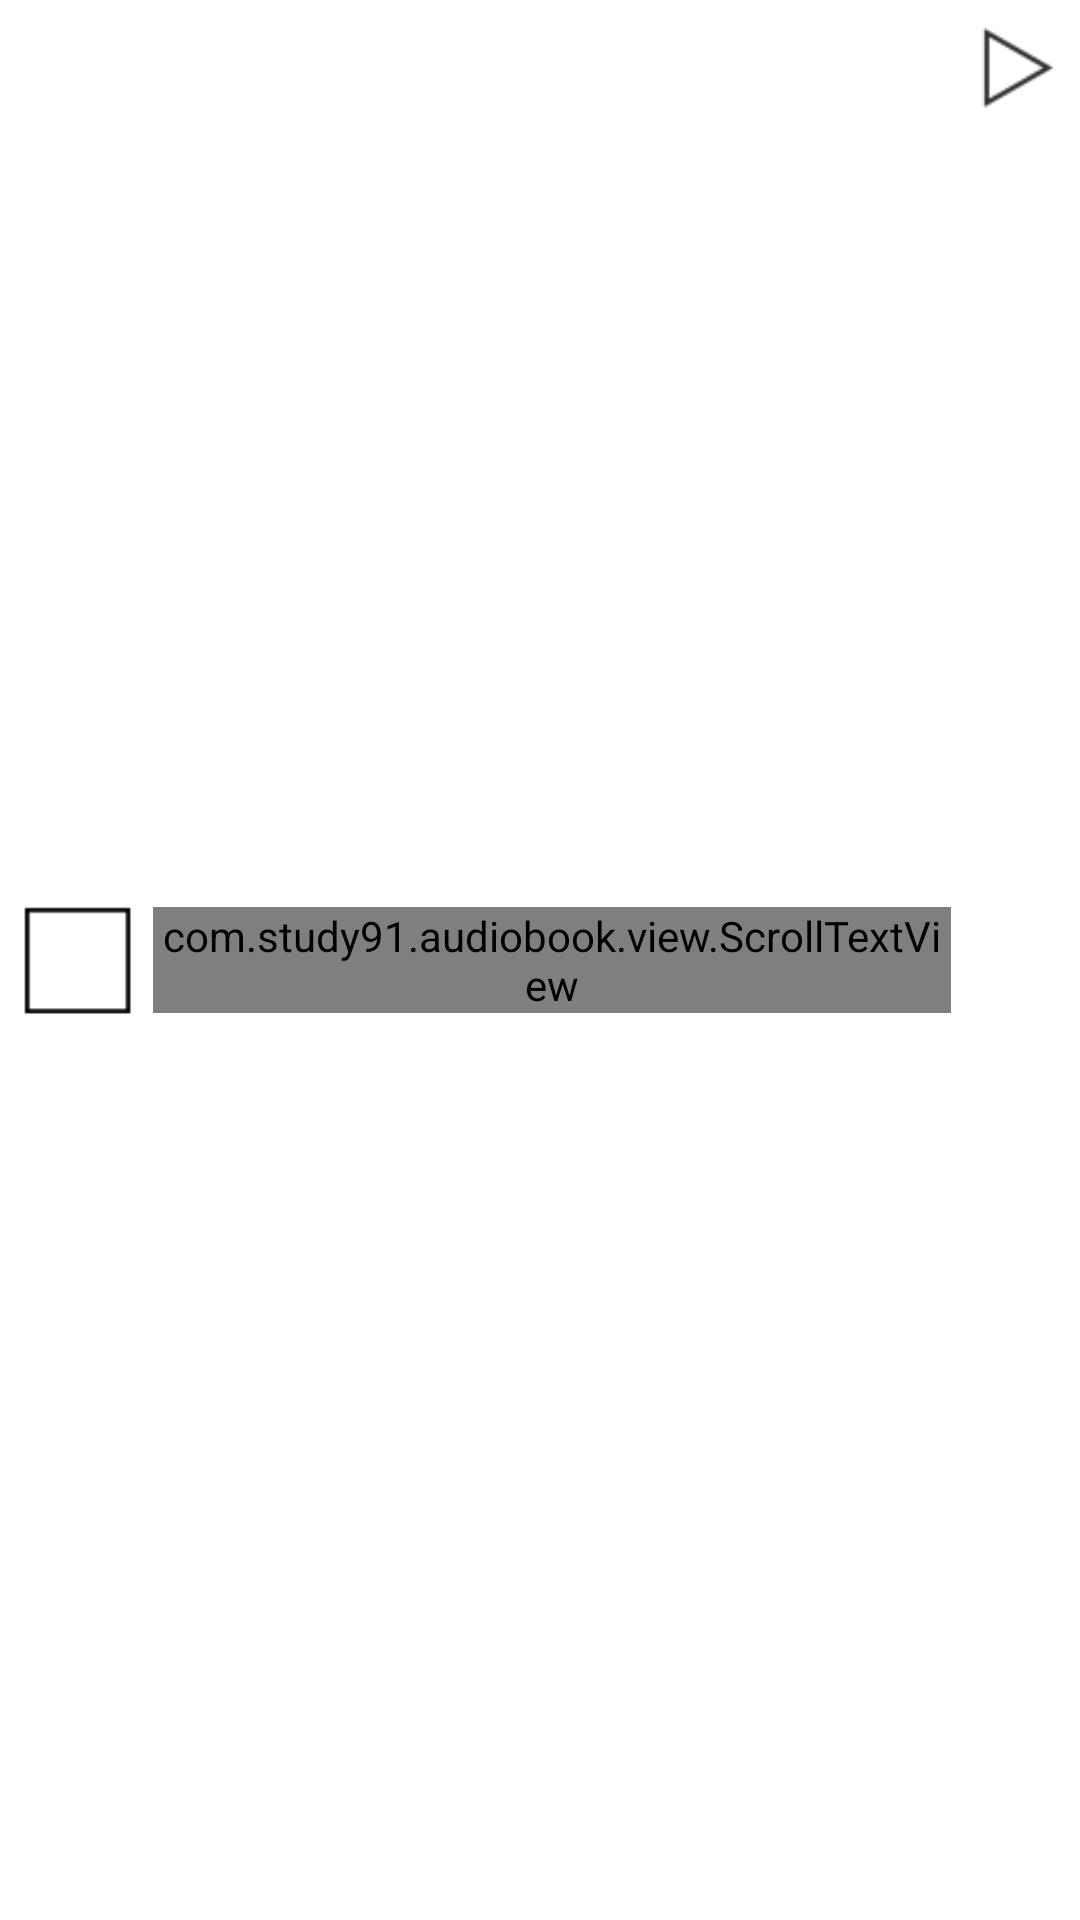

Named icons in this screenshot (1080px x 1920px) and their centers, [x,y]:
catalog group play: [1018,68]
